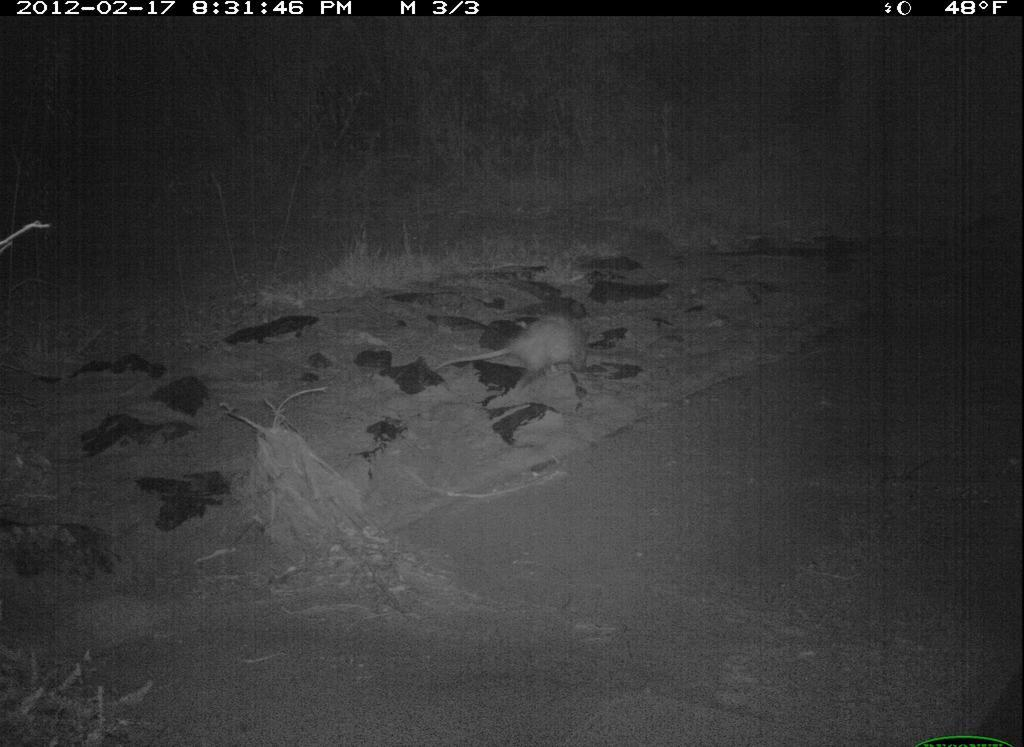opossum: (415, 310, 600, 400)
